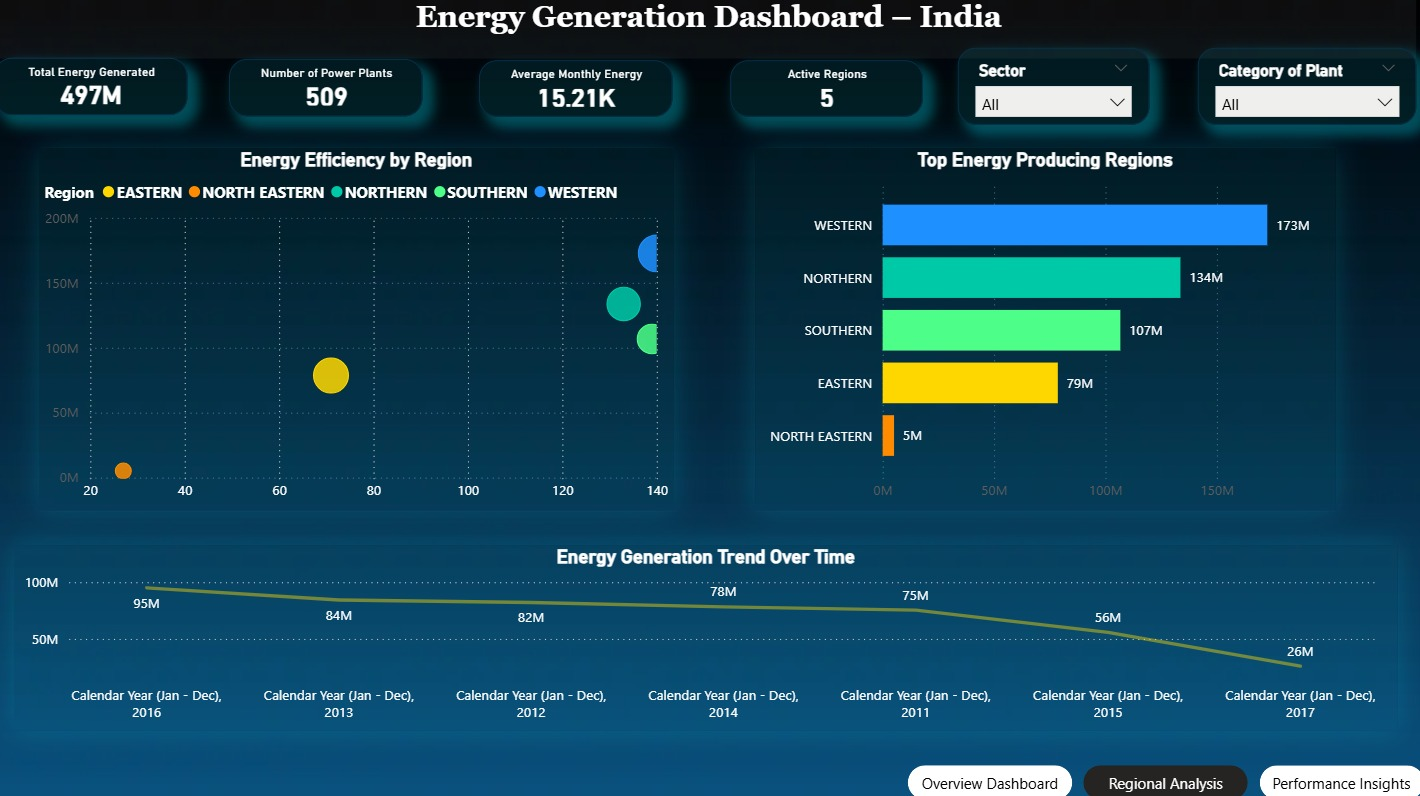

The page's visual inventory and layout, read from the dashboard file:
{"tool":"powerbi","page":{"name":"Regional Analysis","canvas":[1280,720],"ordinal":1},"visuals":[{"type":"card","title":"Total Energy Generated","fields":{"Values":["govdataset.Total Energy"]},"box":[0,56.9,173.1,51.4],"z":0},{"type":"card","title":"Average Monthly Energy","fields":{"Values":["govdataset.Avg Monthly Energy"]},"box":[433,59.7,173.2,50.3],"z":1000},{"type":"card","title":"Number of Power Plants","fields":{"Values":["govdataset.Total Plants"]},"box":[209.5,58.5,173.2,51.5],"z":2000},{"type":"card","title":"Active Regions","fields":{"Values":["govdataset.Active Regions"]},"box":[657.7,59.7,172,50.3],"z":3000},{"type":"textbox","box":[0,0,1270.4,57.5],"z":4000},{"type":"slicer","fields":{"Values":["govdataset.Sector of power plant"]},"box":[861.3,48,170.9,69],"z":5000},{"type":"slicer","fields":{"Values":["govdataset.Category of Plant"]},"box":[1075.4,48,195.4,69],"z":6000},{"type":"clusteredBarChart","title":"Top Energy Producing Regions","fields":{"Category":["govdataset.Region"],"Y":["Sum(govdataset.Actual energy generated)"]},"box":[679.9,137.3,518.3,324.6],"z":7000},{"type":"lineChart","title":"Energy Generation Trend Over Time","fields":{"Category":["govdataset.Year"],"Y":["Sum(govdataset.Actual energy generated)"]},"box":[17.9,492.4,1236.1,165.3],"z":8000},{"type":"scatterChart","title":"Energy Efficiency by Region","fields":{"Series":["govdataset.Region"],"Size":["govdataset.Efficiency"],"X":["govdataset.Total Plants"],"Y":["Sum(govdataset.Actual energy generated)"]},"box":[39.8,137.3,567,324.6],"z":9000},{"type":"pageNavigator","box":[816.3,689,463.4,31.3],"z":9002}]}

Visuals, with their boxes in screenshot pixels (x1, y1, x2, y2), scaled from the page's 1280x720 canvas onto the 1420x796 screenshot:
"Total Energy Generated" card: (left=0, top=63, right=192, bottom=120)
"Average Monthly Energy" card: (left=480, top=66, right=673, bottom=122)
"Number of Power Plants" card: (left=232, top=65, right=425, bottom=122)
"Active Regions" card: (left=730, top=66, right=920, bottom=122)
textbox: (left=0, top=0, right=1409, bottom=64)
slicer - govdataset.Sector of power plant: (left=956, top=53, right=1145, bottom=129)
slicer - govdataset.Category of Plant: (left=1193, top=53, right=1410, bottom=129)
"Top Energy Producing Regions" clusteredBarChart: (left=754, top=152, right=1329, bottom=511)
"Energy Generation Trend Over Time" lineChart: (left=20, top=544, right=1391, bottom=727)
"Energy Efficiency by Region" scatterChart: (left=44, top=152, right=673, bottom=511)
pageNavigator: (left=906, top=762, right=1419, bottom=795)
